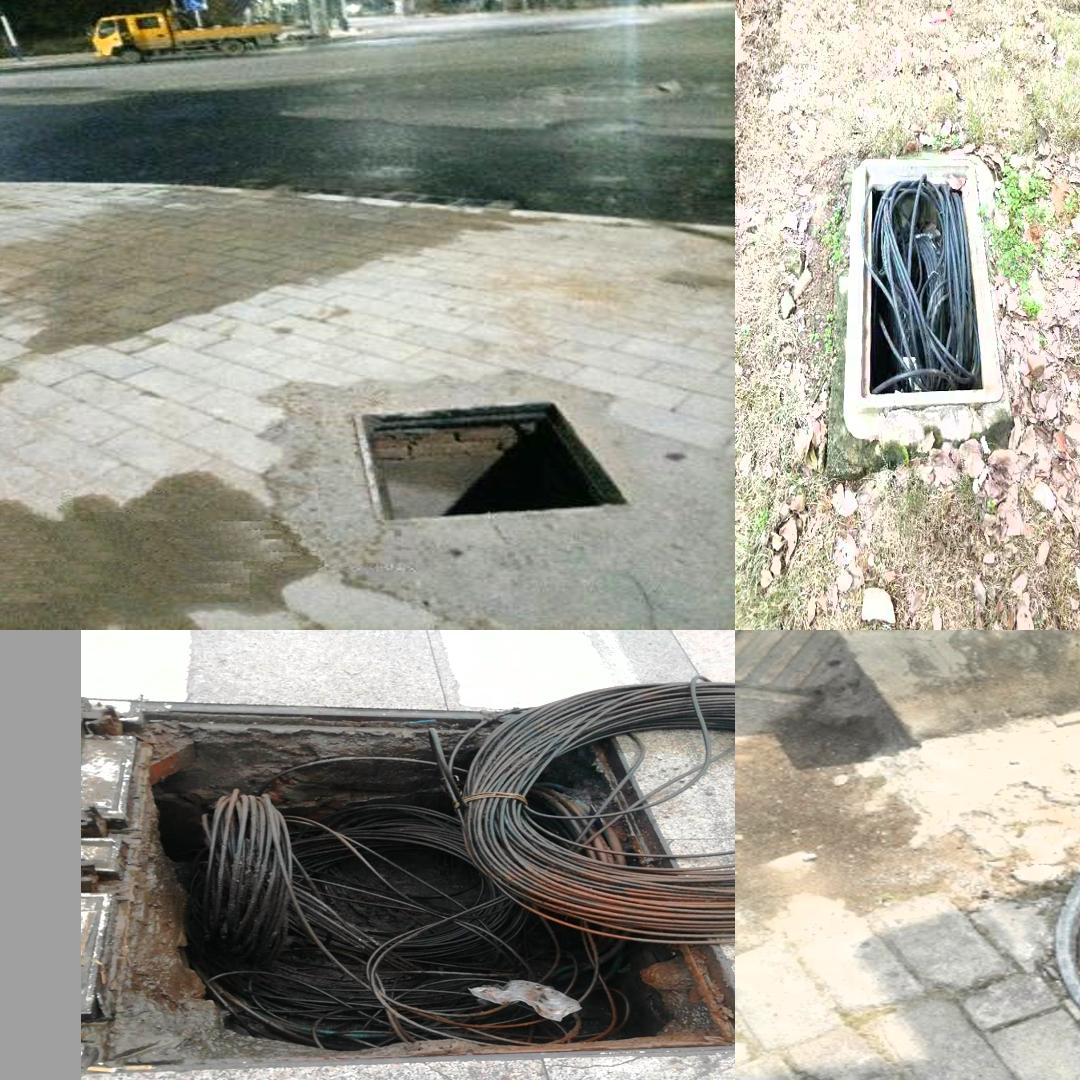lose: (86, 683, 715, 1080), (852, 147, 996, 421), (350, 395, 641, 527), (1056, 779, 1080, 1080)
